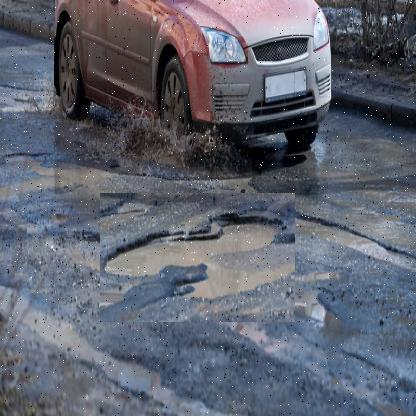pothole_water_m: (100, 193, 296, 323)
